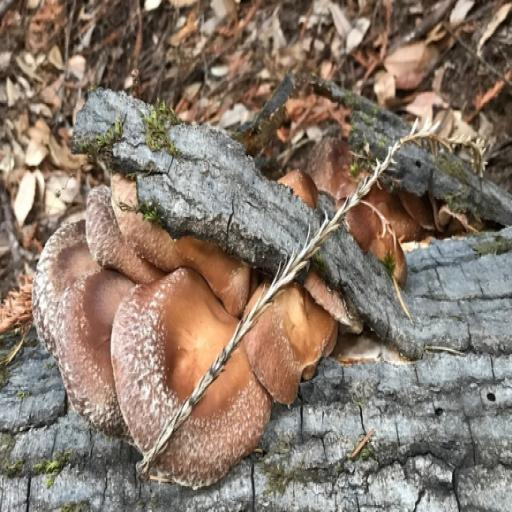Shiitake Mushroom: (1, 199, 327, 495)
